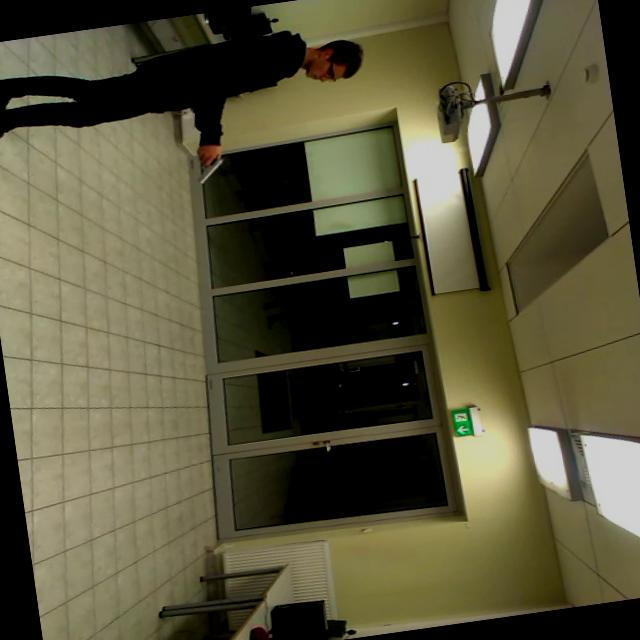handgun: (183, 148, 231, 197)
